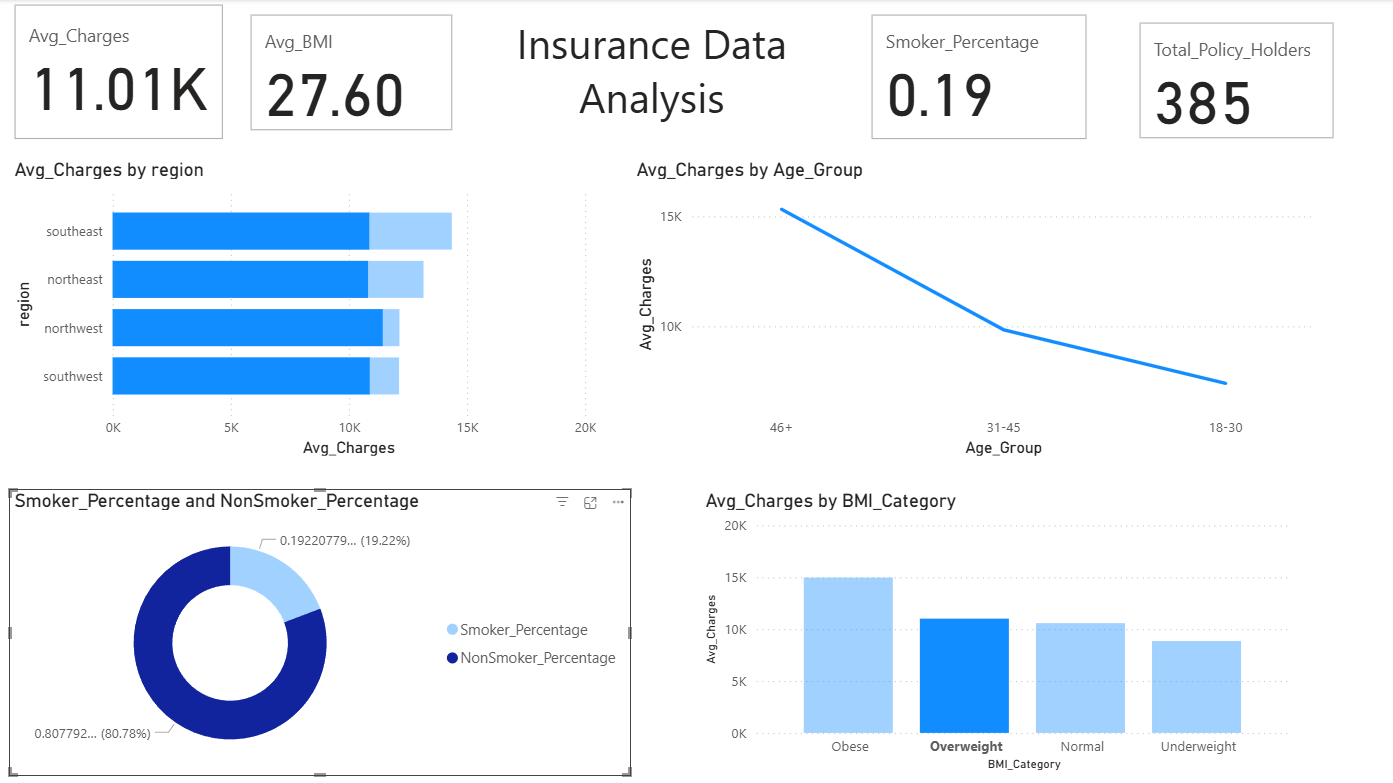

What the dashboard file says about the page in this screenshot:
{"tool":"powerbi","page":{"name":"Page 1","canvas":[1280,720],"ordinal":0},"visuals":[{"type":"cardVisual","fields":{"Data":["cleaned_insurance.Avg_Charges"]},"box":[13.7,0,199.1,132.3],"z":0},{"type":"cardVisual","fields":{"Data":["cleaned_insurance.Avg_BMI"]},"box":[228,9.1,193.1,115.5],"z":1},{"type":"cardVisual","fields":{"Data":["cleaned_insurance.Smoker_Percentage"]},"box":[790.5,9.1,205.2,123.1],"z":2},{"type":"cardVisual","fields":{"Data":["cleaned_insurance.Total_Policy_Holders"]},"box":[1033.7,16.7,187,115.5],"z":3},{"type":"donutChart","fields":{"Y":["cleaned_insurance.Smoker_Percentage","cleaned_insurance.NonSmoker_Percentage"]},"box":[13.3,444.4,564,260.2],"z":4},{"type":"barChart","fields":{"Category":["cleaned_insurance.region"],"Y":["cleaned_insurance.Avg_Charges"]},"box":[13.3,144.3,537.4,275.4],"z":5},{"type":"clusteredColumnChart","fields":{"Category":["cleaned_insurance.BMI_Category"],"Y":["cleaned_insurance.Avg_Charges"]},"box":[640,444.4,541.2,260.2],"z":6},{"type":"lineChart","fields":{"Category":["cleaned_insurance.Age_Group"],"Y":["cleaned_insurance.Avg_Charges"]},"box":[577.3,144.3,624.8,275.4],"z":7},{"type":"textbox","box":[436.3,9.1,320.8,109.5],"z":8}]}

Visuals, with their boxes in screenshot pixels (x1, y1, x2, y2), scaled from the page's 1280x720 canvas onto the 1393x783 screenshot:
cardVisual - cleaned_insurance.Avg_Charges: detection(15, 0, 232, 144)
cardVisual - cleaned_insurance.Avg_BMI: detection(248, 10, 458, 136)
cardVisual - cleaned_insurance.Smoker_Percentage: detection(860, 10, 1084, 144)
cardVisual - cleaned_insurance.Total_Policy_Holders: detection(1125, 18, 1328, 144)
donutChart - cleaned_insurance.Smoker_Percentage x cleaned_insurance.NonSmoker_Percentage: detection(14, 483, 628, 766)
barChart - cleaned_insurance.region x cleaned_insurance.Avg_Charges: detection(14, 157, 599, 456)
clusteredColumnChart - cleaned_insurance.BMI_Category x cleaned_insurance.Avg_Charges: detection(696, 483, 1285, 766)
lineChart - cleaned_insurance.Age_Group x cleaned_insurance.Avg_Charges: detection(628, 157, 1308, 456)
textbox: detection(475, 10, 824, 129)
